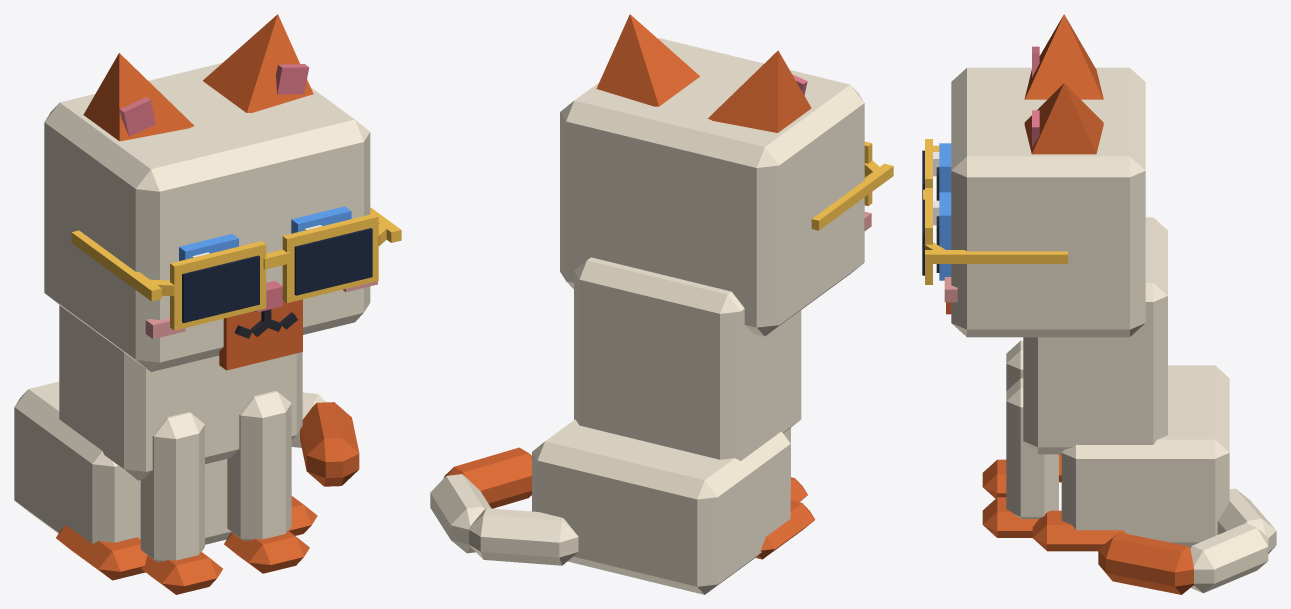
Rendered from CatCafe_Cat_Sunny_Sit.fbx.
The picture shows the model from 3 angles, left to right: view 1: azimuth 30°, elevation 25°; view 2: azimuth 150°, elevation 25°; view 3: azimuth 270°, elevation 25°; orthographic projection. The views are drawn at different scales.
Parts seen in each view (by area): view 1: CatCafe_Cat_Sunny_Sit_Head, CatCafe_Cat_Sunny_Sit_Body, CatCafe_Cat_Sunny_Sit_Prop, CatCafe_Cat_Sunny_Sit_LegF1, CatCafe_Cat_Sunny_Sit_LegF2, CatCafe_Cat_Sunny_Sit_EarL, CatCafe_Cat_Sunny_Sit_EarR, CatCafe_Cat_Sunny_Sit_Tail, CatCafe_Cat_Sunny_Sit_Eye1, CatCafe_Cat_Sunny_Sit_Eye2; view 2: CatCafe_Cat_Sunny_Sit_Body, CatCafe_Cat_Sunny_Sit_Head, CatCafe_Cat_Sunny_Sit_Tail, CatCafe_Cat_Sunny_Sit_EarL, CatCafe_Cat_Sunny_Sit_EarR, CatCafe_Cat_Sunny_Sit_Prop; view 3: CatCafe_Cat_Sunny_Sit_Head, CatCafe_Cat_Sunny_Sit_Body, CatCafe_Cat_Sunny_Sit_Tail, CatCafe_Cat_Sunny_Sit_LegF1, CatCafe_Cat_Sunny_Sit_EarL, CatCafe_Cat_Sunny_Sit_EarR, CatCafe_Cat_Sunny_Sit_Prop, CatCafe_Cat_Sunny_Sit_LegF2, CatCafe_Cat_Sunny_Sit_Eye1, CatCafe_Cat_Sunny_Sit_Eye2.
Boxes of the visible parts, <box> form: CatCafe_Cat_Sunny_Sit_Head: <box>44,63,377,371</box>; CatCafe_Cat_Sunny_Sit_Body: <box>14,305,317,580</box>; CatCafe_Cat_Sunny_Sit_Prop: <box>71,207,401,330</box>; CatCafe_Cat_Sunny_Sit_LegF1: <box>224,391,309,573</box>; CatCafe_Cat_Sunny_Sit_LegF2: <box>140,412,222,594</box>; CatCafe_Cat_Sunny_Sit_EarL: <box>203,14,313,112</box>; CatCafe_Cat_Sunny_Sit_EarR: <box>83,53,194,141</box>; CatCafe_Cat_Sunny_Sit_Tail: <box>291,392,359,486</box>; CatCafe_Cat_Sunny_Sit_Eye1: <box>291,206,351,233</box>; CatCafe_Cat_Sunny_Sit_Eye2: <box>179,233,238,260</box>; CatCafe_Cat_Sunny_Sit_Body: <box>532,257,815,594</box>; CatCafe_Cat_Sunny_Sit_Head: <box>560,38,871,336</box>; CatCafe_Cat_Sunny_Sit_Tail: <box>430,447,578,565</box>; CatCafe_Cat_Sunny_Sit_EarL: <box>596,14,699,106</box>; CatCafe_Cat_Sunny_Sit_EarR: <box>708,50,811,132</box>; CatCafe_Cat_Sunny_Sit_Prop: <box>811,141,893,230</box>; CatCafe_Cat_Sunny_Sit_Head: <box>944,67,1145,337</box>; CatCafe_Cat_Sunny_Sit_Body: <box>1023,217,1229,551</box>; CatCafe_Cat_Sunny_Sit_Tail: <box>1098,488,1276,594</box>; CatCafe_Cat_Sunny_Sit_LegF1: <box>982,378,1058,537</box>; CatCafe_Cat_Sunny_Sit_EarL: <box>1024,83,1103,154</box>; CatCafe_Cat_Sunny_Sit_EarR: <box>1024,14,1103,99</box>; CatCafe_Cat_Sunny_Sit_Prop: <box>922,139,1067,284</box>; CatCafe_Cat_Sunny_Sit_LegF2: <box>982,340,1023,498</box>; CatCafe_Cat_Sunny_Sit_Eye1: <box>933,192,951,280</box>; CatCafe_Cat_Sunny_Sit_Eye2: <box>933,143,951,200</box>.
Size of the model in its own units: 1.27 by 1.85 by 1.28.
1 material, 1 textured.
